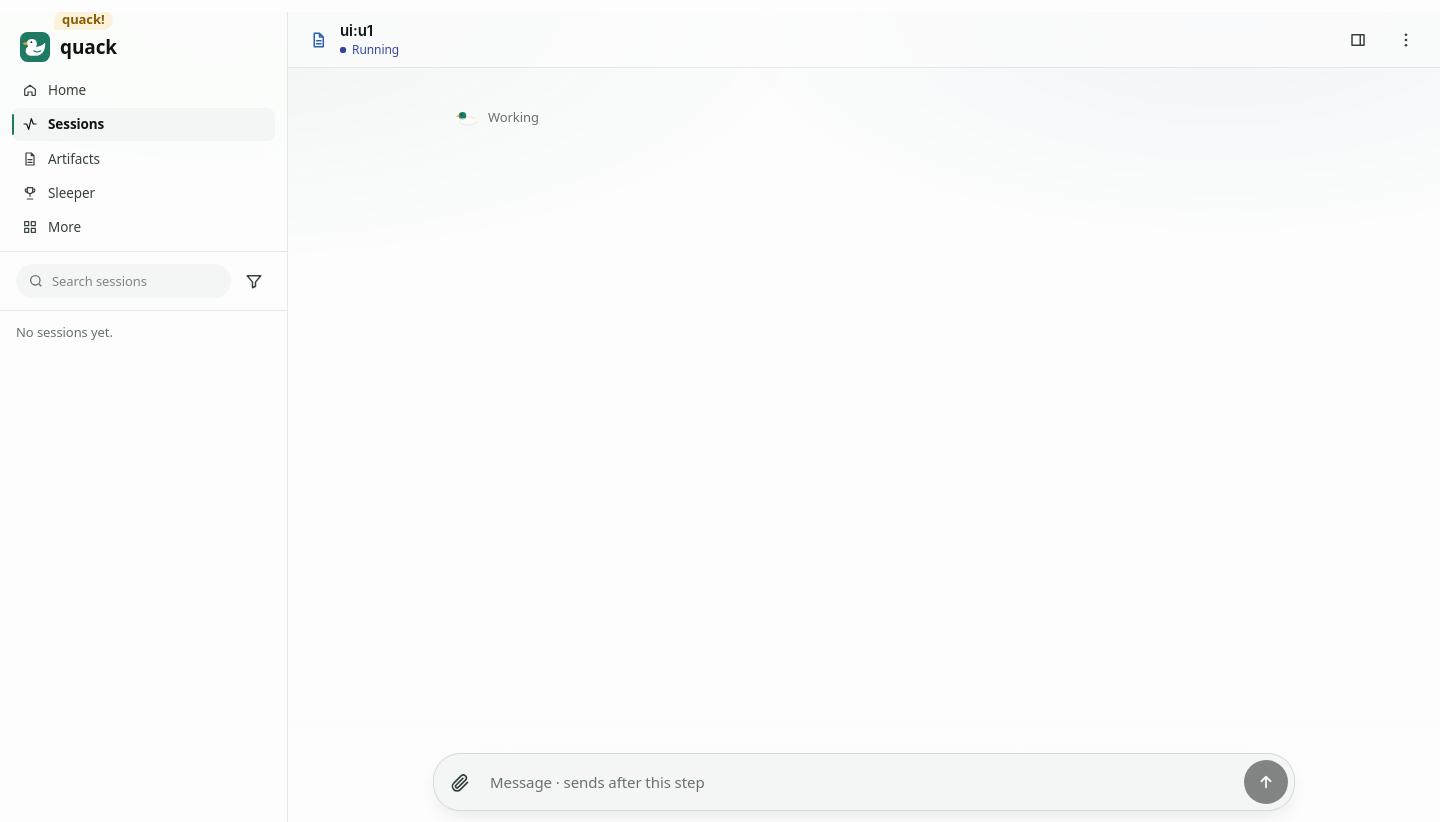
Test case: a failed abort is reported
The image size is (1440, 822).
Click the button named "More actions" at coordinates (1406, 40), box x1=1384 y1=18 x2=1428 y2=62
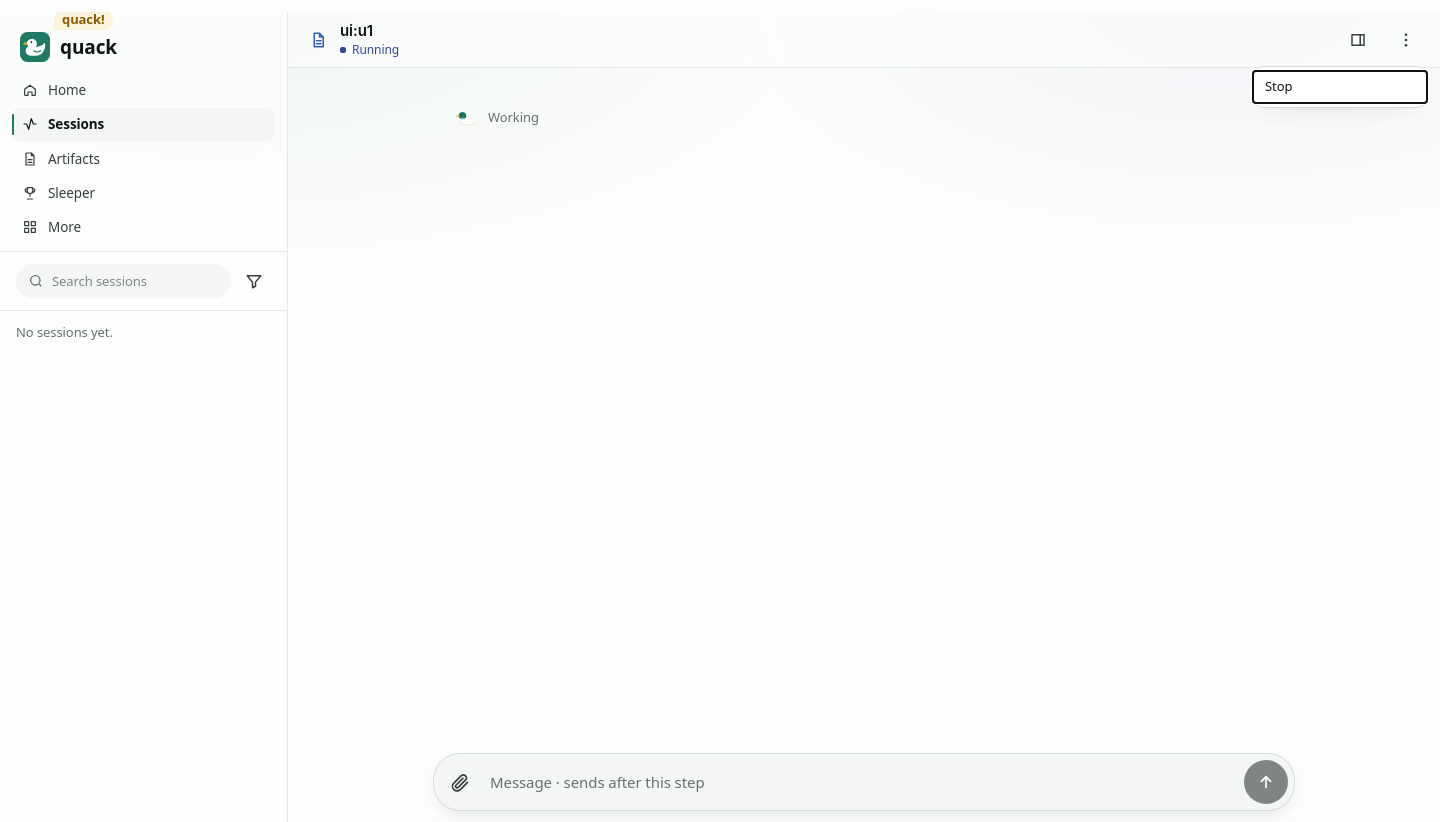
Click the menu item "Stop" at coordinates (1340, 86), box x1=1253 y1=70 x2=1427 y2=102
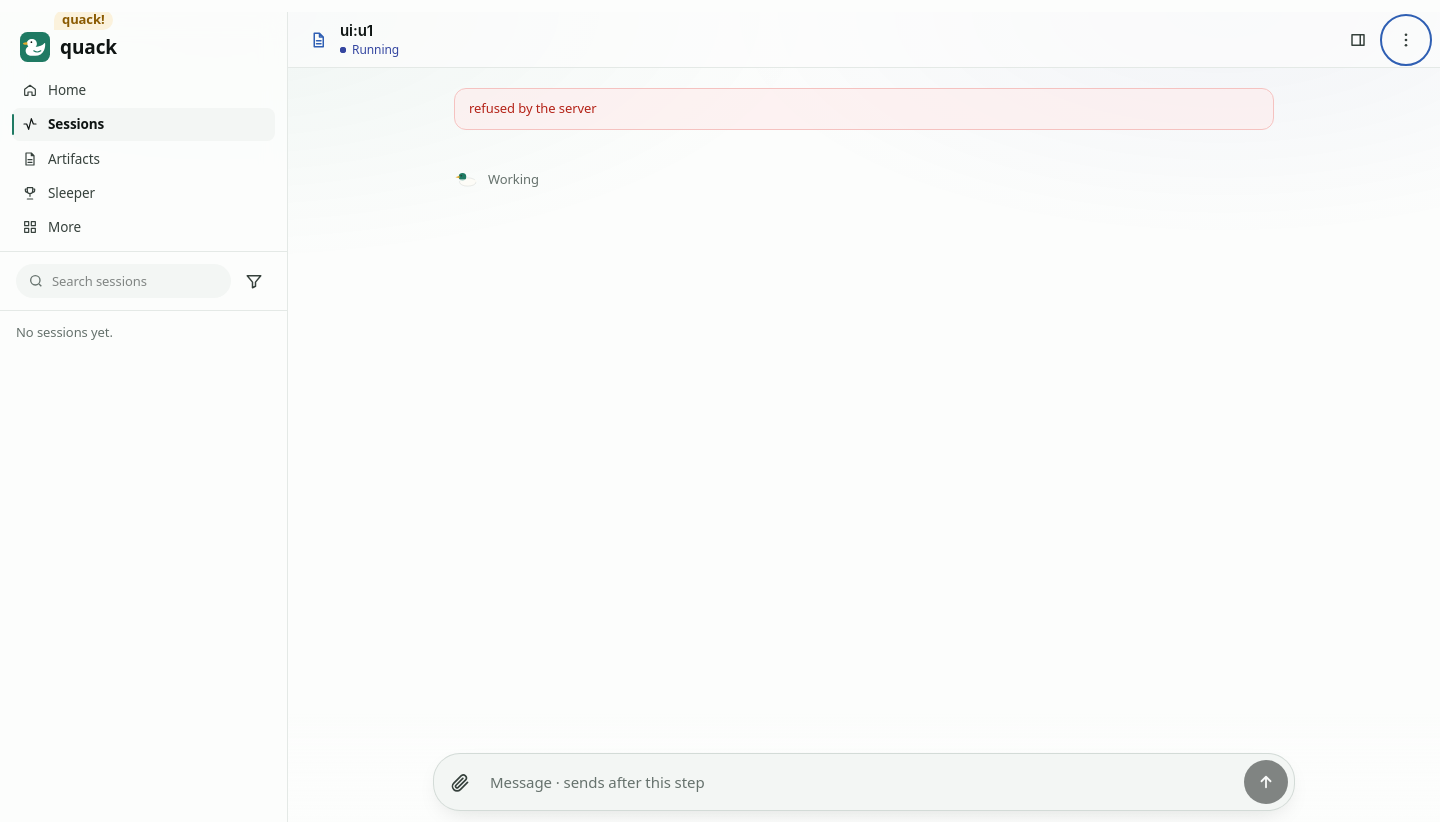
Expected: the message "refused by the server" is shown, x1=454 y1=88 x2=1274 y2=130
